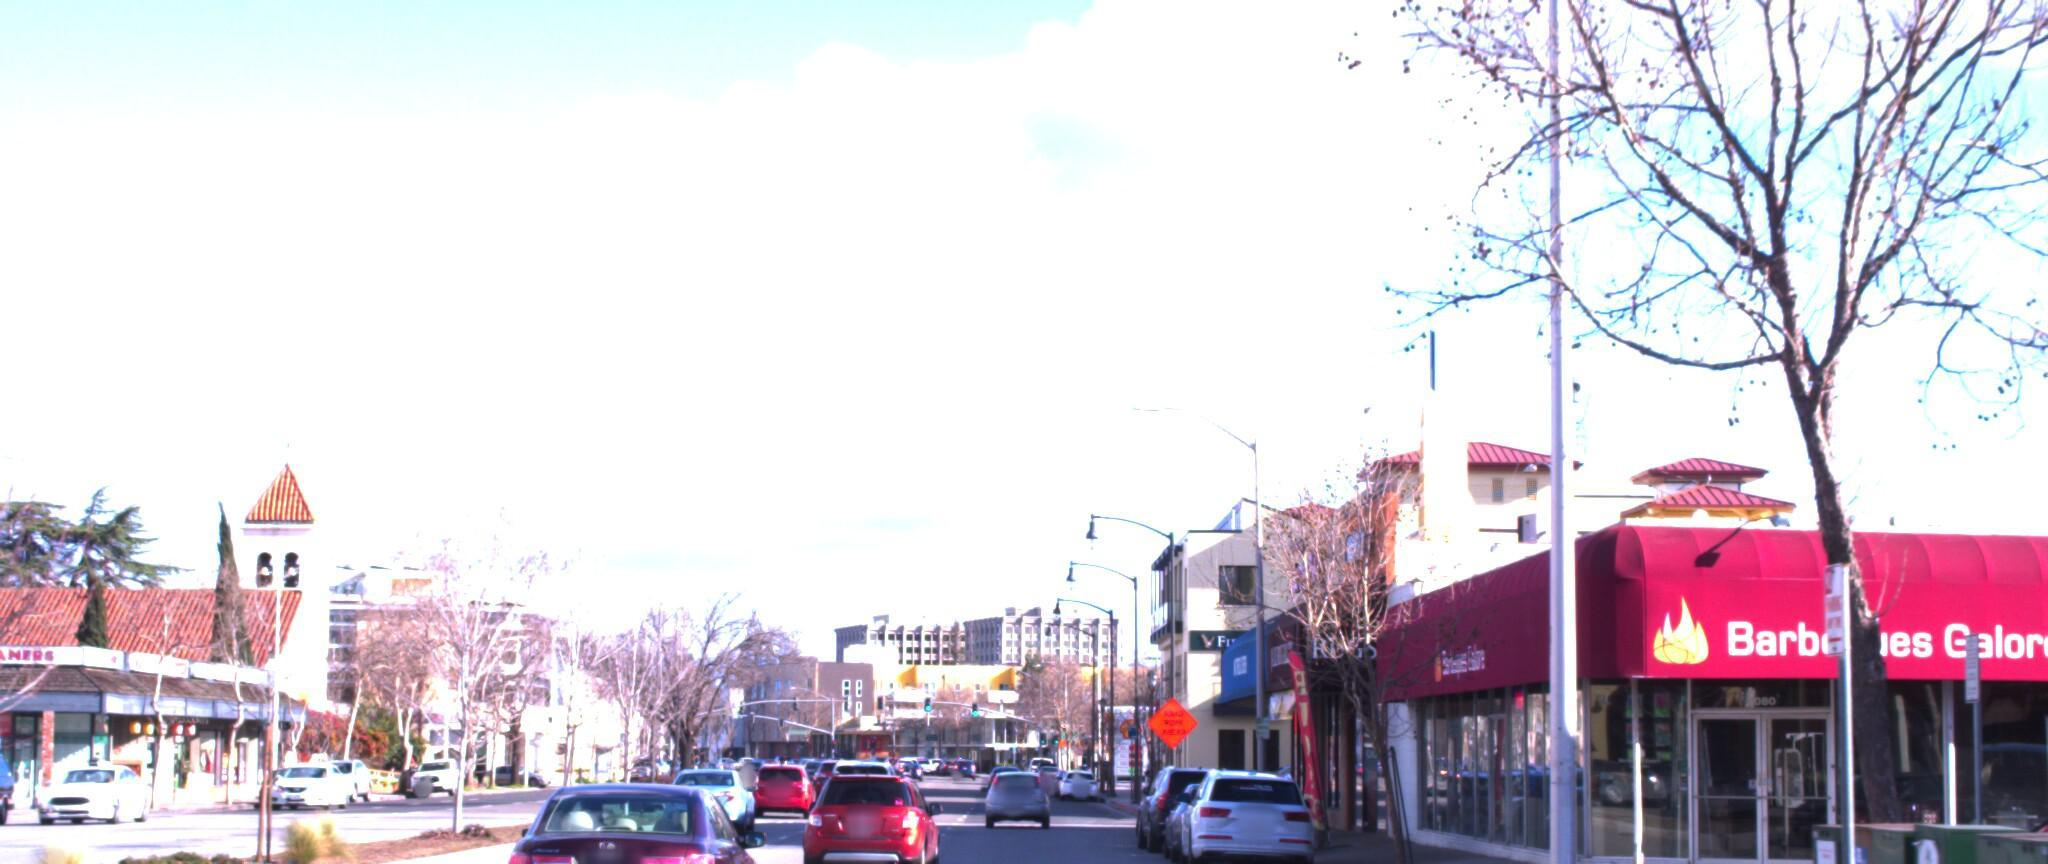car: (502, 743, 778, 864), (1859, 754, 2048, 864), (799, 748, 948, 864), (1169, 743, 1313, 861), (40, 730, 170, 803), (671, 737, 771, 814)
